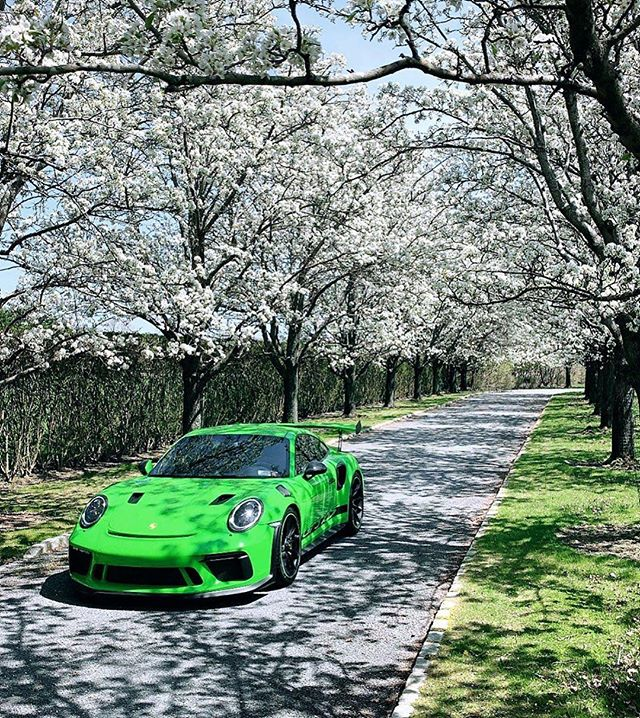car: (67, 415, 377, 629)
street: (30, 387, 538, 718)
vegetation: (1, 1, 616, 361)
